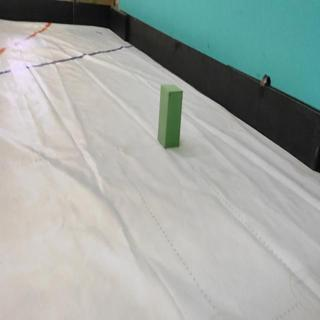greenbox: (156, 84, 183, 149)
